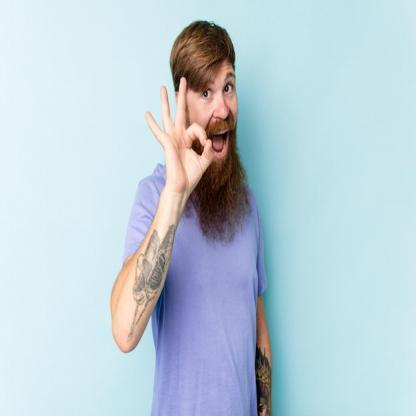ok: (141, 74, 216, 194)
